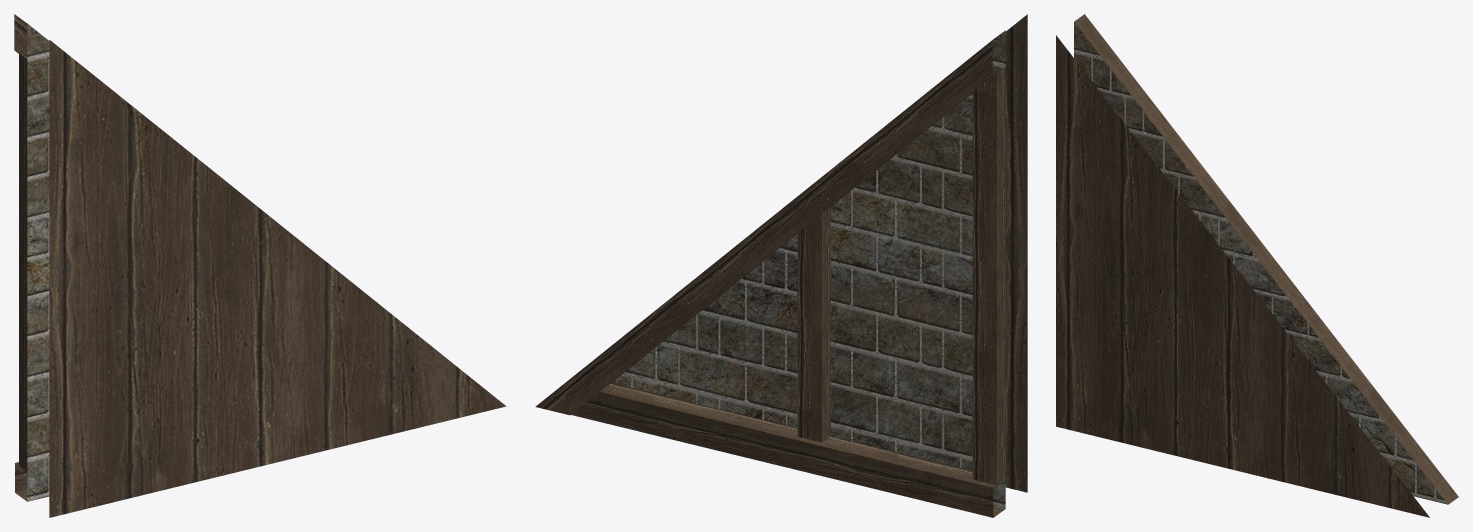
File: ARC1010221.fbx
3 renders of one model, left to right at view 1: azimuth 30°, elevation 25°; view 2: azimuth 150°, elevation 25°; view 3: azimuth 330°, elevation 25°, orthographic. The views are drawn at different scales.
Visible parts, largest first — view 1: smARC1010221; view 2: smARC1010221; view 3: smARC1010221.
Part boxes in pixels (x1=…): smARC1010221: x1=14, y1=14, x2=506, y2=517; smARC1010221: x1=535, y1=14, x2=1027, y2=517; smARC1010221: x1=1056, y1=14, x2=1458, y2=517.
Bounding box in the file's own units: 268 × 268 × 35.62.
1 material, 1 textured.
